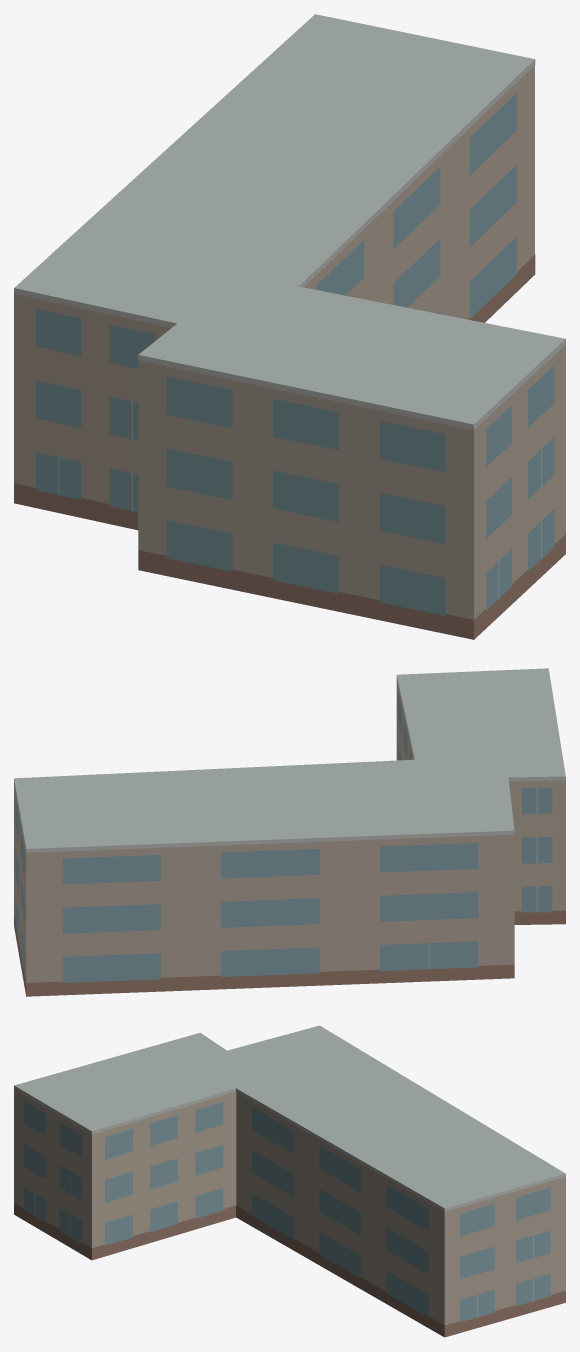
Rendered from survey-upis-32508343.glb.
The picture shows the model from 3 angles, top to bottom: view 1: azimuth 30°, elevation 25°; view 2: azimuth 150°, elevation 25°; view 3: azimuth 270°, elevation 25°; orthographic projection. The views are drawn at different scales.
Visible parts, largest first — view 1: survey-upis-32508343.tmp; view 2: survey-upis-32508343.tmp; view 3: survey-upis-32508343.tmp.
Part boxes in pixels (x1=…): survey-upis-32508343.tmp: x1=14, y1=14, x2=565, y2=639; survey-upis-32508343.tmp: x1=14, y1=668, x2=565, y2=996; survey-upis-32508343.tmp: x1=14, y1=1025, x2=565, y2=1337.
Bounding box in the file's own units: 27.82 × 9.15 × 35.46.
